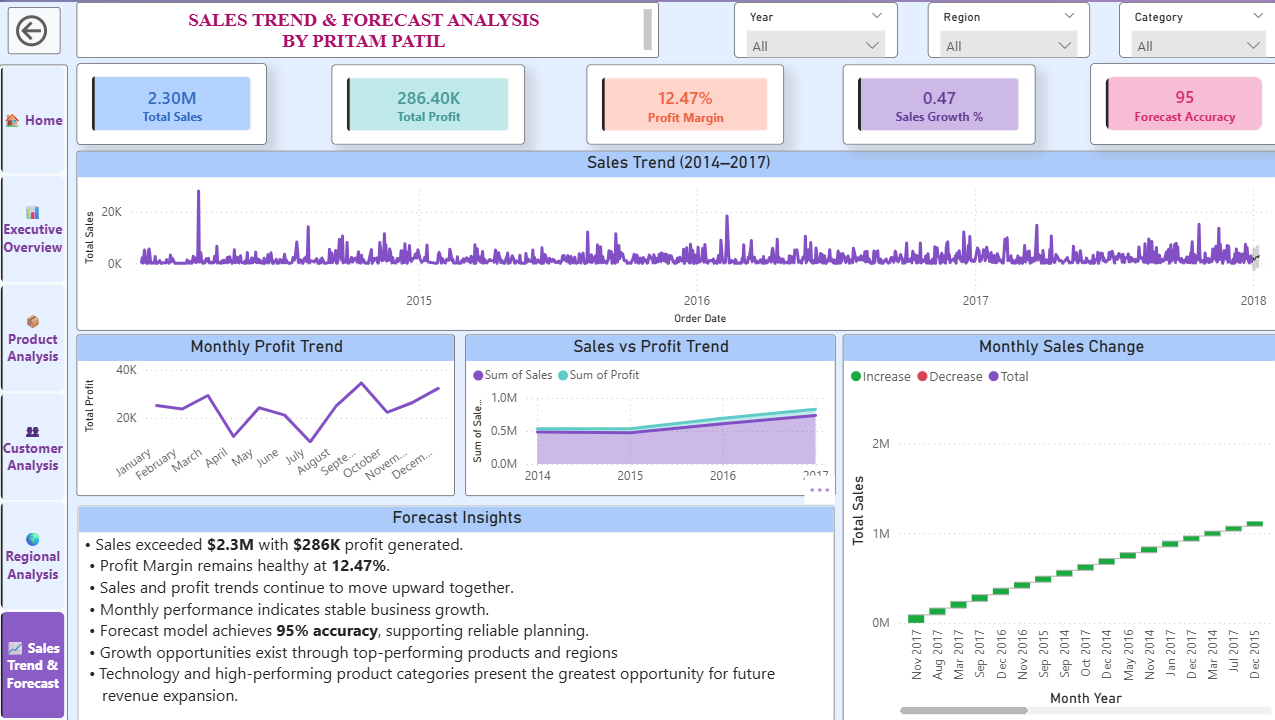

Layout of this report page (visuals, bound fields, positions):
{"tool":"powerbi","page":{"name":" 📈 Sales Trend & Forecast","canvas":[1280,720],"ordinal":9},"visuals":[{"type":"textbox","box":[77.5,0,582.5,56.2],"z":0},{"type":"slicer","fields":{"Values":["Sample-superstore-data.Order Date.Variation.Date Hierarchy.Year"]},"box":[735,0,163.8,56.2],"z":1000},{"type":"slicer","fields":{"Values":["Sample-superstore-data.Region"]},"box":[928.8,0,162.5,56.2],"z":2000},{"type":"slicer","fields":{"Values":["Sample-superstore-data.Category"]},"box":[1120,0,160,56.2],"z":3000},{"type":"cardVisual","fields":{"Data":["Sample-superstore-data.Total Sales"]},"box":[77.5,61.2,190,81.2],"z":4000},{"type":"cardVisual","fields":{"Data":["Sample-superstore-data.Total Profit"]},"box":[332.5,62.5,193.8,80],"z":5000},{"type":"cardVisual","fields":{"Data":["Sample-superstore-data.Profit Margin"]},"box":[587.5,62.5,197.5,80],"z":6000},{"type":"actionButton","box":[8.8,5,52.5,47.5],"z":7000},{"type":"lineChart","title":"Sales Trend (2014–2017)","fields":{"Y":["Sample-superstore-data.Total Sales"],"Category":["Sample-superstore-data.Order Date"]},"box":[77.5,148.8,1202.5,180],"z":8000},{"type":"lineChart","title":"Monthly Profit Trend","fields":{"Category":["Sample-superstore-data.Order Date.Variation.Date Hierarchy.Month"],"Y":["Sample-superstore-data.Total Profit"]},"box":[77.5,332.5,378.8,161.2],"z":9000},{"type":"stackedAreaChart","title":"Sales vs Profit Trend","fields":{"Category":["Sample-superstore-data.Order Date.Variation.Date Hierarchy.Year","Sample-superstore-data.Order Date.Variation.Date Hierarchy.Quarter","Sample-superstore-data.Order Date.Variation.Date Hierarchy.Month"],"Y":["Sum(Sample-superstore-data.Sales)","Sum(Sample-superstore-data.Profit)"]},"box":[466.2,332.5,370,161.2],"z":10000},{"type":"waterfallChart","title":"Monthly Sales Change","fields":{"Category":["Sample-superstore-data.Month Year"],"Y":["Sample-superstore-data.Total Sales"]},"box":[843.8,332.5,436.2,387.5],"z":11000},{"type":"cardVisual","fields":{"Data":["Sample-superstore-data.Forecast Accuracy"]},"box":[1091.2,61.2,188.8,81.2],"z":12000},{"type":"pageNavigator","box":[0,62.5,68.8,657.5],"z":13000},{"type":"cardVisual","fields":{"Data":["Sample-superstore-data.Sales Growth %"]},"box":[843.8,62.5,192.5,80],"z":14000},{"type":"textbox","title":"Forecast Insights","box":[78.6,504.3,757.1,215.7],"z":15000}]}

Visuals, with their boxes on the page's 1280x720 design canvas (x1, y1, x2, y2). These are canvas units, not pixel positions in the 1275x720 screenshot, which may show the page scaled, cropped or inside an application window:
textbox: 78:0:660:56
slicer - Sample-superstore-data.Order Date.Variation.Date Hierarchy.Year: 735:0:899:56
slicer - Sample-superstore-data.Region: 929:0:1091:56
slicer - Sample-superstore-data.Category: 1120:0:1280:56
cardVisual - Sample-superstore-data.Total Sales: 78:61:268:142
cardVisual - Sample-superstore-data.Total Profit: 332:62:526:142
cardVisual - Sample-superstore-data.Profit Margin: 588:62:785:142
actionButton: 9:5:61:52
"Sales Trend (2014–2017)" lineChart: 78:149:1280:329
"Monthly Profit Trend" lineChart: 78:332:456:494
"Sales vs Profit Trend" stackedAreaChart: 466:332:836:494
"Monthly Sales Change" waterfallChart: 844:332:1280:720
cardVisual - Sample-superstore-data.Forecast Accuracy: 1091:61:1280:142
pageNavigator: 0:62:69:720
cardVisual - Sample-superstore-data.Sales Growth %: 844:62:1036:142
"Forecast Insights" textbox: 79:504:836:720
